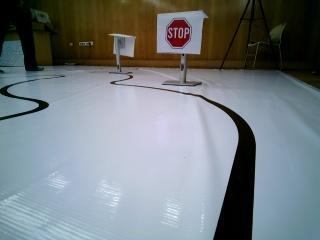stop: (162, 16, 201, 50)
